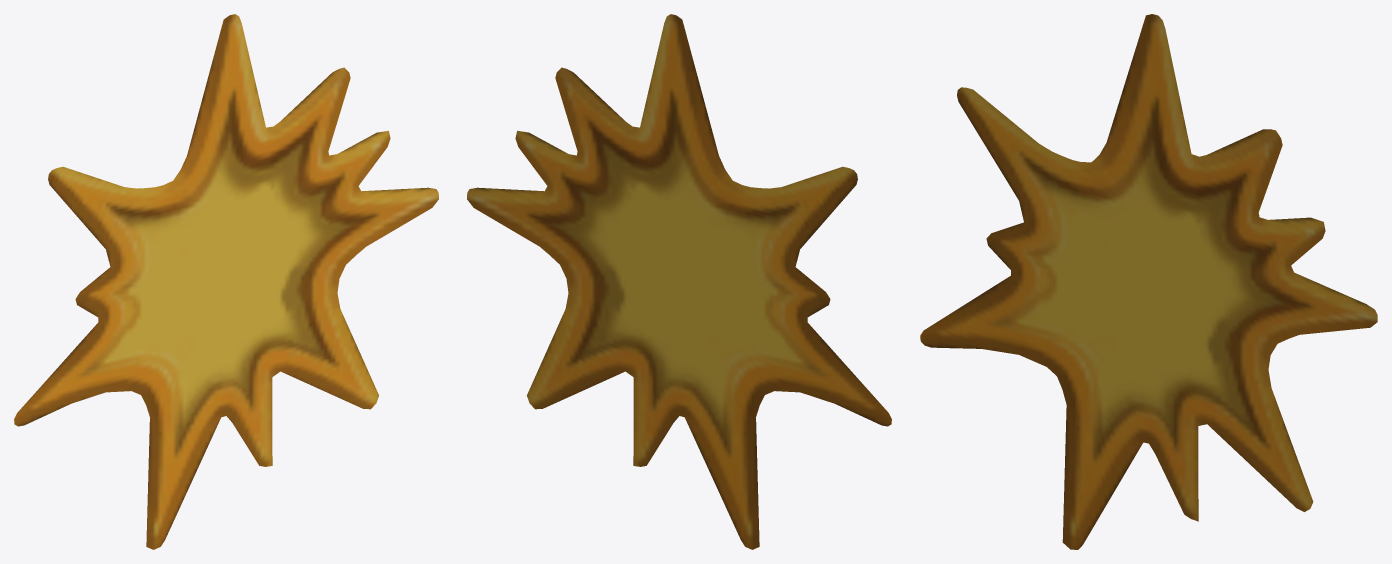
Rendered from Damage.glb.
3 views of the same model, side by side, from view 1: azimuth 30°, elevation 25°; view 2: azimuth 150°, elevation 25°; view 3: azimuth 330°, elevation 25° (orthographic). The views are drawn at different scales.
Visible parts, largest first — view 1: Circle.001; view 2: Circle.001; view 3: Circle.001.
Boxes of the visible parts, x1,y1,x2,y2 form: Circle.001: (14, 14, 438, 549); Circle.001: (467, 14, 891, 549); Circle.001: (920, 14, 1377, 549).
Size of the model in its own units: 4.17 by 4.84 by 2.03e-07.
1 material, 1 textured.
